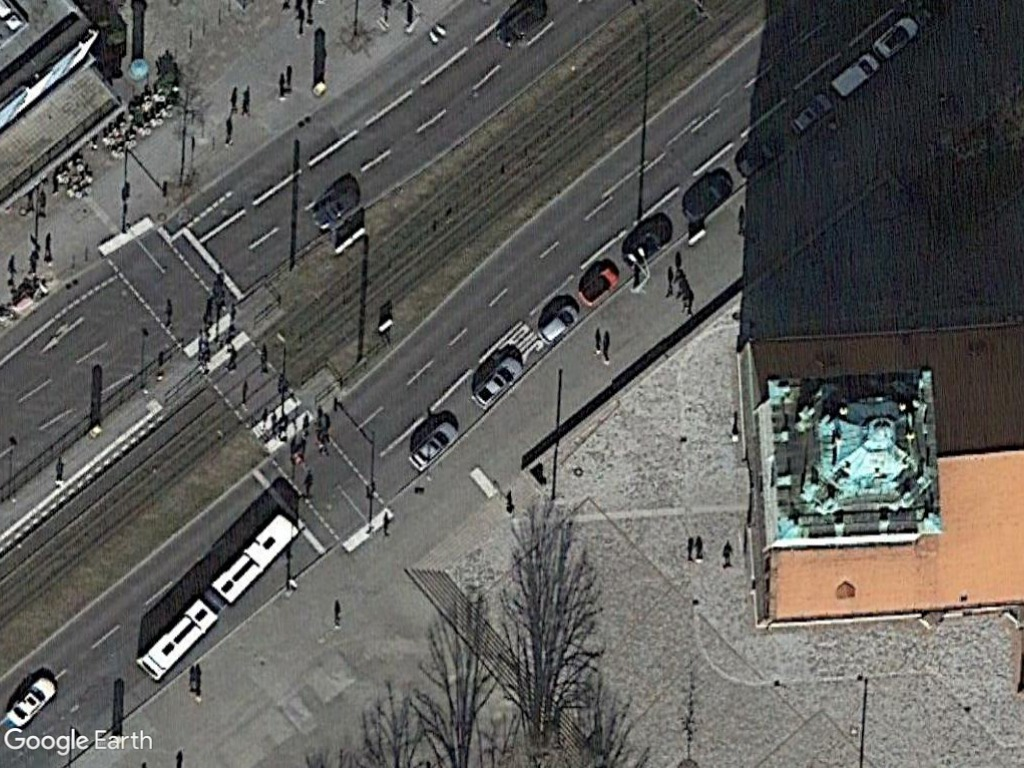bus: (208, 508, 308, 611), (134, 590, 229, 686)
car: (465, 352, 528, 413), (404, 417, 464, 479), (2, 669, 62, 730), (870, 15, 927, 62), (537, 299, 587, 349), (577, 259, 624, 309), (789, 86, 836, 134)
van: (830, 48, 884, 98)
